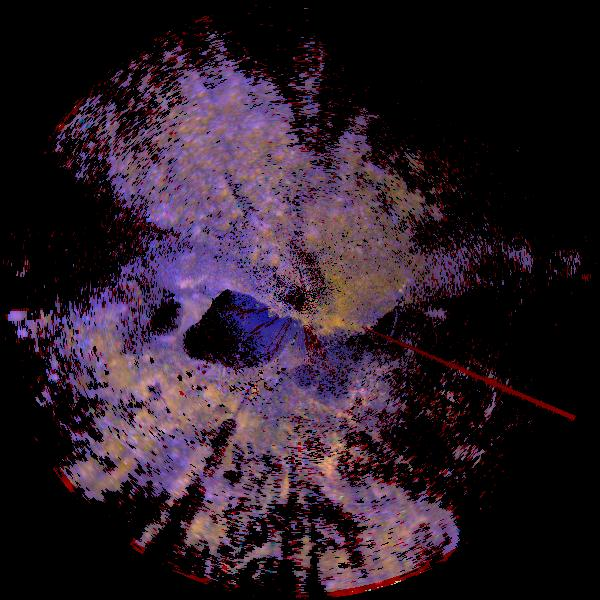roost: (68, 334, 143, 409)
